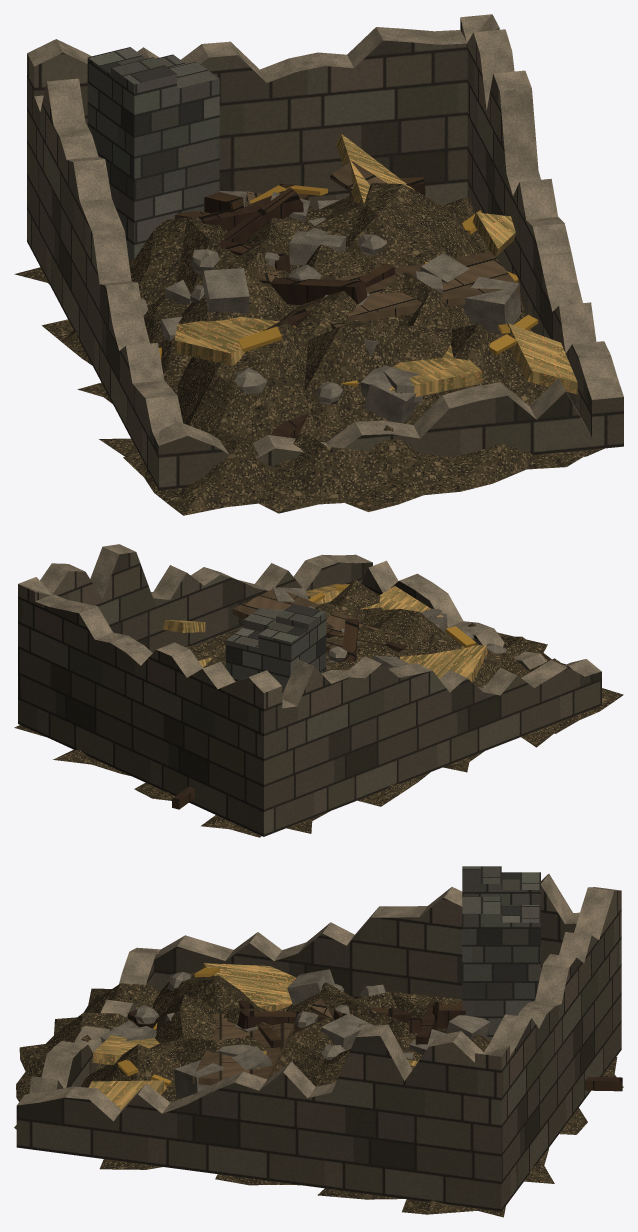
The model's file is AraHut04a.glb.
3 renders of one model, top to bottom at view 1: azimuth 30°, elevation 25°; view 2: azimuth 150°, elevation 25°; view 3: azimuth 270°, elevation 25°, orthographic. The views are drawn at different scales.
Visible parts, largest first — view 1: AraHut04a_rwall; view 2: AraHut04a_rwall; view 3: AraHut04a_rwall.
Boxes of the visible parts, <box> form: AraHut04a_rwall: <box>14,14,623,515</box>; AraHut04a_rwall: <box>14,544,623,837</box>; AraHut04a_rwall: <box>14,866,623,1217</box>.
Size of the model in its own units: 5.86 by 2.3 by 6.6.
9 materials, 8 textured.
